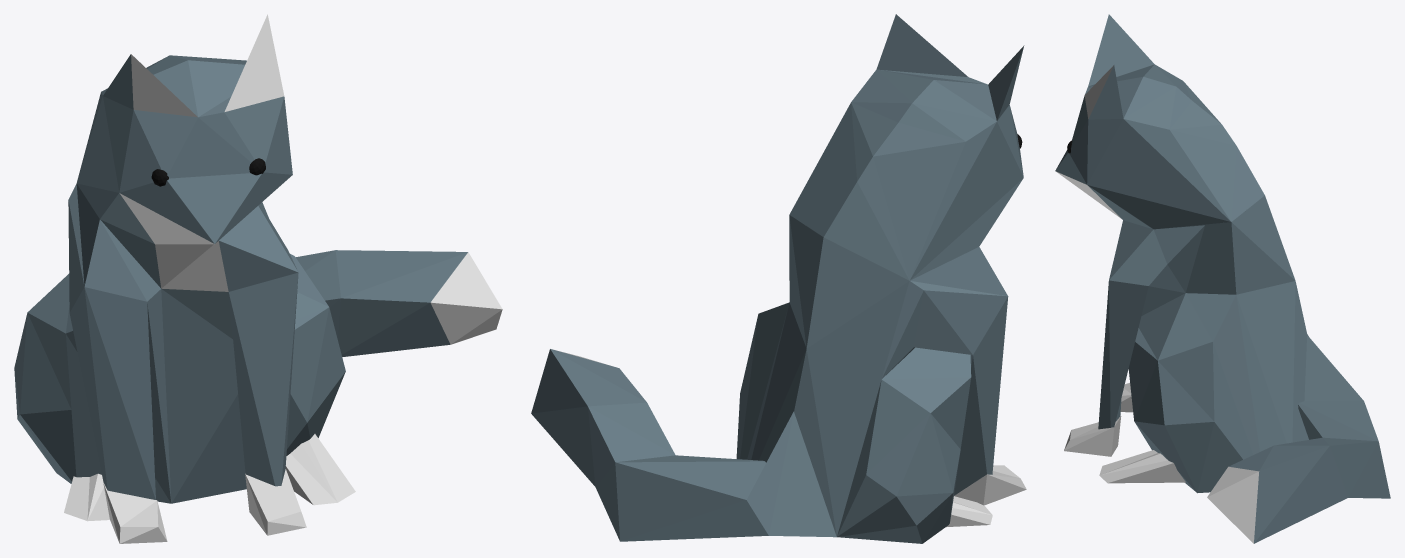
Rendered from kitty.gltf.
The picture shows the model from 3 angles, left to right: view 1: azimuth 30°, elevation 25°; view 2: azimuth 150°, elevation 25°; view 3: azimuth 270°, elevation 25°; orthographic projection. The views are drawn at different scales.
Parts seen in each view (by area): view 1: node_MeshObject-1566441472-PolyPaper21; view 2: node_MeshObject-1566441472-PolyPaper21; view 3: node_MeshObject-1566441472-PolyPaper21.
Part boxes in pixels (box(x1,y1,x2,y2)): node_MeshObject-1566441472-PolyPaper21: box(14, 14, 502, 543); node_MeshObject-1566441472-PolyPaper21: box(531, 14, 1026, 543); node_MeshObject-1566441472-PolyPaper21: box(1055, 14, 1390, 543).
Size of the model in its own units: 0.464 by 0.4699 by 0.3646.
